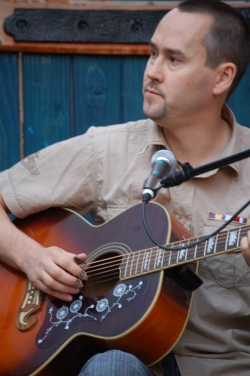guitar: (1, 198, 250, 376)
